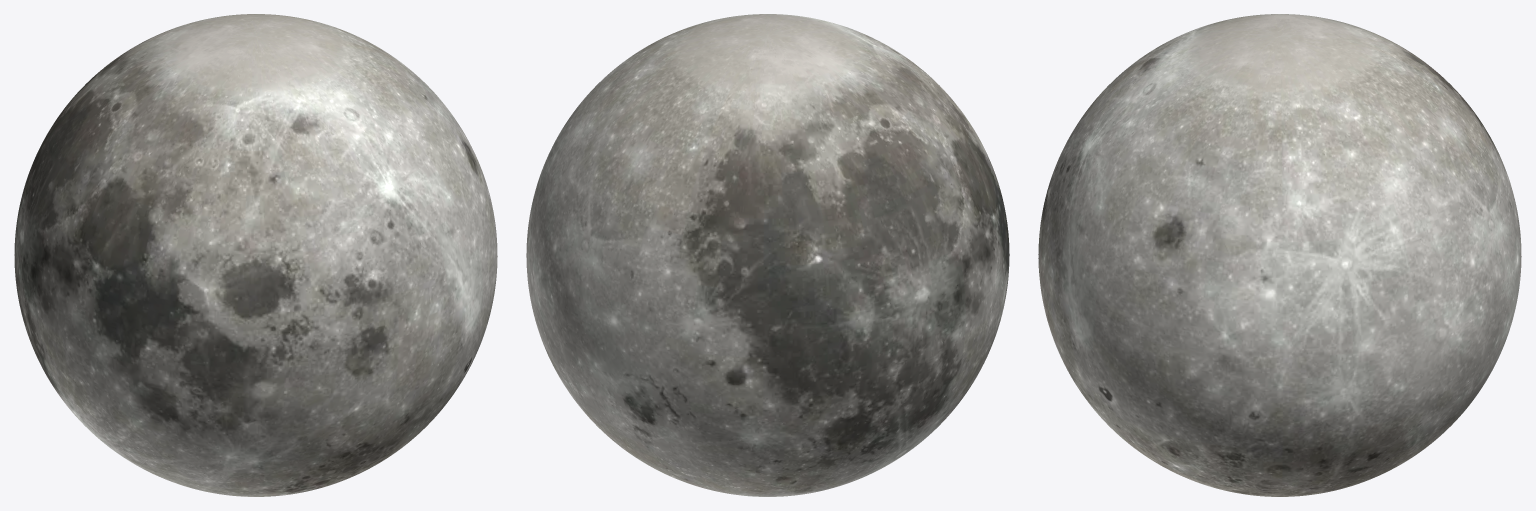
The model's file is moon.optimized.glb.
3 renders of one model, left to right at view 1: azimuth 30°, elevation 25°; view 2: azimuth 150°, elevation 25°; view 3: azimuth 270°, elevation 25°, orthographic.
Visible parts, largest first — view 1: pSphere1_color_0; view 2: pSphere1_color_0; view 3: pSphere1_color_0.
Boxes of the visible parts, bbox=[...] form: pSphere1_color_0: bbox=[14, 14, 497, 496]; pSphere1_color_0: bbox=[526, 14, 1009, 496]; pSphere1_color_0: bbox=[1038, 14, 1521, 496].
Size of the model in its own units: 0.205 by 0.205 by 0.205.
1 material, 1 textured.
